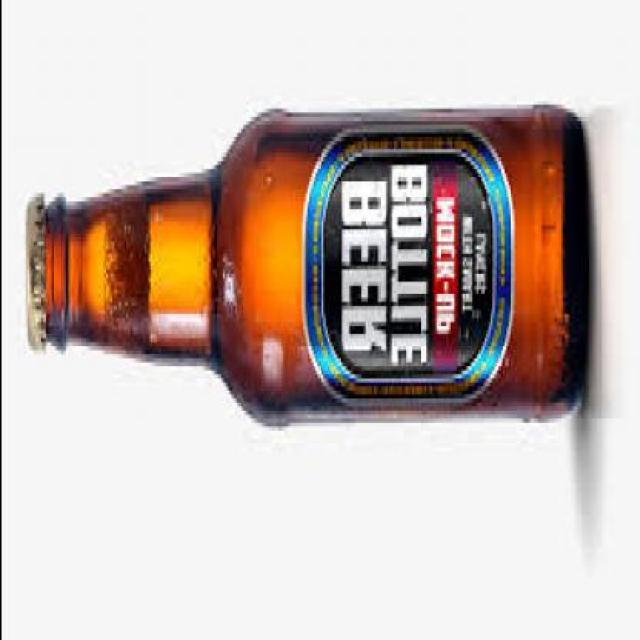GLASS: (40, 104, 588, 418)
METAL: (22, 193, 44, 342)
